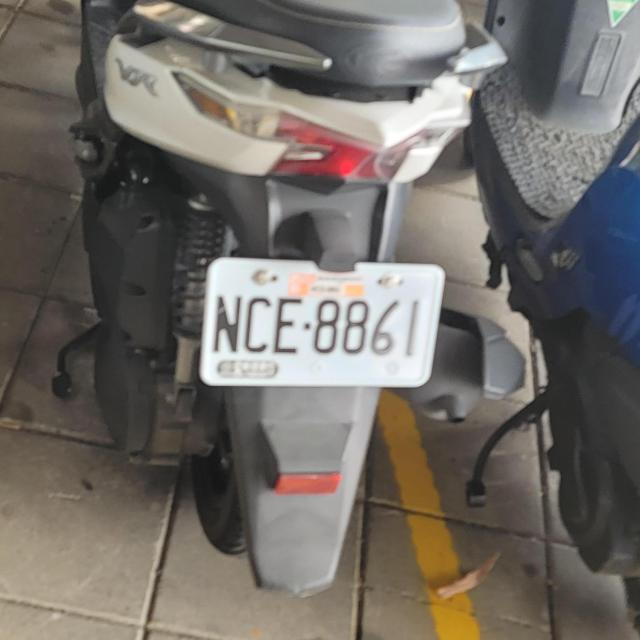W: (193, 248, 444, 391)
